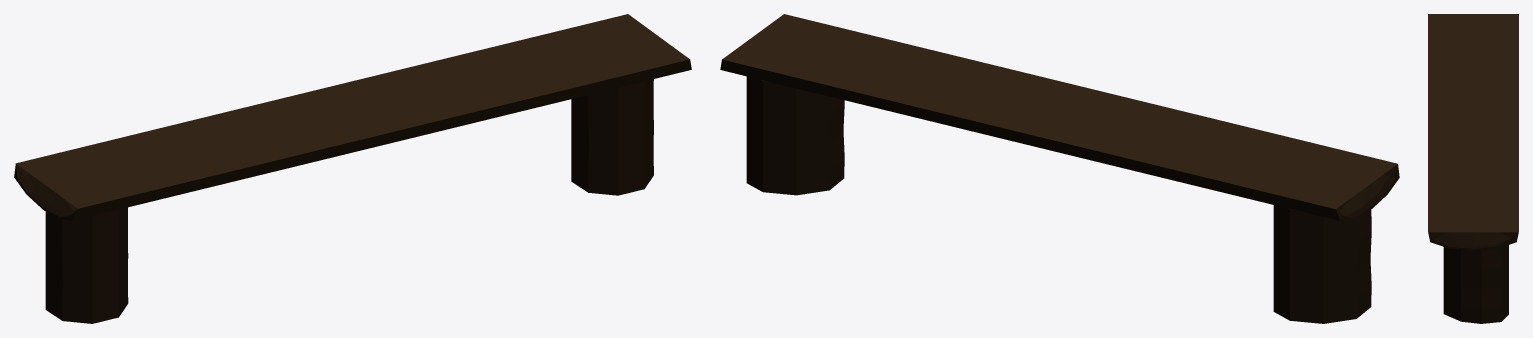
File: Bench01_FBX.fbx
The picture shows the model from 3 angles, left to right: view 1: azimuth 30°, elevation 25°; view 2: azimuth 150°, elevation 25°; view 3: azimuth 270°, elevation 25°; orthographic projection. The views are drawn at different scales.
Parts seen in each view (by area): view 1: CUT LOG 021, LOG 031, LOG 032; view 2: CUT LOG 021, LOG 031, LOG 032; view 3: CUT LOG 021, LOG 032.
Boxes of the visible parts, x1,y1,x2,y2 form: CUT LOG 021: [14, 14, 691, 220]; LOG 031: [45, 207, 128, 323]; LOG 032: [571, 79, 653, 195]; CUT LOG 021: [720, 14, 1399, 221]; LOG 031: [1273, 205, 1371, 323]; LOG 032: [746, 76, 844, 195]; CUT LOG 021: [1428, 14, 1518, 250]; LOG 032: [1443, 245, 1508, 323].
Bounding box in the file's own units: 186 × 37.11 × 32.39.
